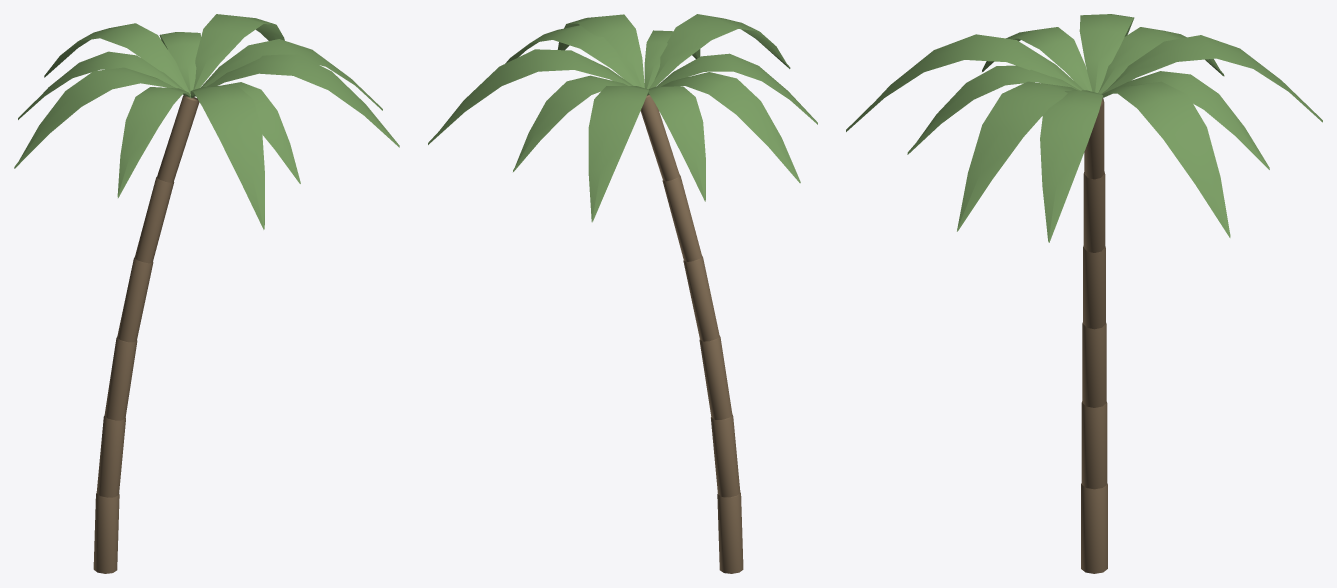
Rendered from palm_tree_variant_01.glb.
3 renders of one model, left to right at view 1: azimuth 30°, elevation 25°; view 2: azimuth 150°, elevation 25°; view 3: azimuth 270°, elevation 25°, orthographic. The views are drawn at different scales.
Visible parts, largest first — view 1: static_leaf_oak, static_wood; view 2: static_leaf_oak, static_wood; view 3: static_leaf_oak, static_wood.
Part boxes in pixels (x1,y1,x2,y2): static_leaf_oak: (14,14,399,229); static_wood: (93,95,199,573); static_leaf_oak: (428,14,817,222); static_wood: (640,94,743,573); static_leaf_oak: (846,14,1322,242); static_wood: (1081,98,1107,573).
Bounding box in the file's own units: 5.84 × 8.13 × 6.26.
